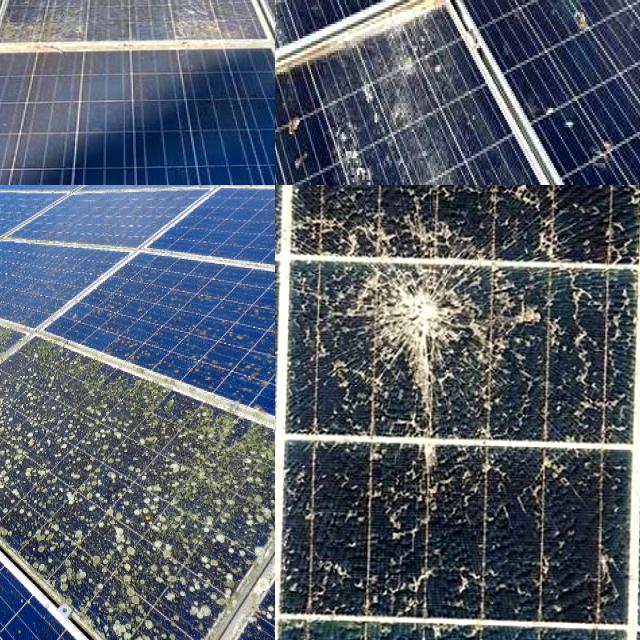bird: (2, 0, 98, 46), (153, 0, 241, 45), (487, 0, 532, 56), (335, 118, 371, 185), (275, 0, 321, 52), (392, 43, 434, 95), (400, 0, 437, 53), (586, 128, 625, 176), (10, 0, 108, 19), (30, 0, 120, 20), (351, 0, 402, 26), (189, 0, 233, 30), (568, 0, 597, 44), (275, 0, 299, 53), (284, 96, 312, 138), (293, 0, 338, 26), (294, 0, 354, 18), (275, 0, 295, 43), (487, 0, 512, 27), (275, 154, 296, 185)
dust: (0, 441, 275, 532), (0, 469, 89, 596), (0, 371, 151, 443), (202, 266, 275, 412), (0, 329, 49, 501), (0, 225, 100, 307), (0, 297, 41, 435)
hotspot: (328, 453, 618, 603), (310, 220, 558, 390)
